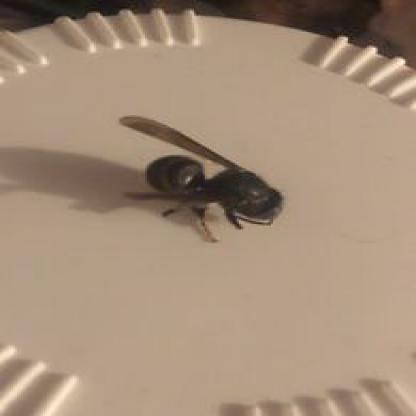Asian Hornet: (102, 112, 292, 238)
